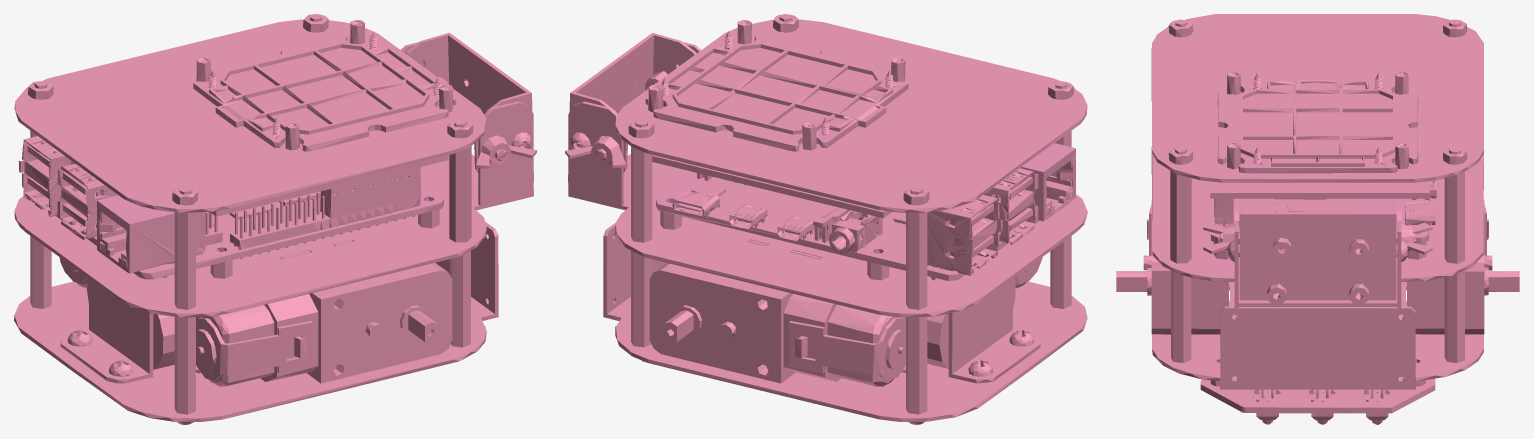
3 views of the same model, side by side, from view 1: azimuth 30°, elevation 25°; view 2: azimuth 150°, elevation 25°; view 3: azimuth 270°, elevation 25° (orthographic). The views are drawn at different scales.
Visible parts, largest first — view 1: node; view 2: node; view 3: node.
Boxes of the visible parts, x1=… form: node: x1=14, y1=14, x2=536, y2=424; node: x1=565, y1=14, x2=1087, y2=424; node: x1=1116, y1=14, x2=1519, y2=424.
Size of the model in its own units: 0.1203 by 0.103 by 0.0761.
